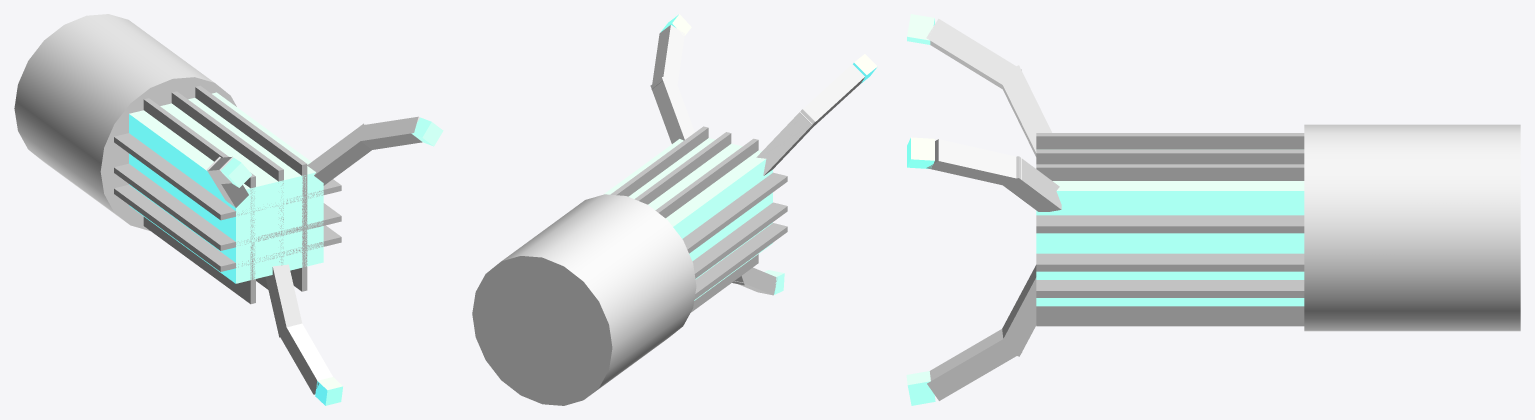
File: GravityGun.fbx
The picture shows the model from 3 angles, left to right: view 1: azimuth 30°, elevation 25°; view 2: azimuth 150°, elevation 25°; view 3: azimuth 270°, elevation 25°; orthographic projection. The views are drawn at different scales.
Visible parts, largest first — view 1: Cylinder, Cube, Cube__3_, Cube__4_, Cube__6_, Cube__1_, Cube__5_, Cube__2_, Cube__8__2, Cube__7_, Cube__7__2, Cube__8_ (+4 smaller); view 2: Cylinder, Cube, Cube__3_, Cube__5_, Cube__4_, Cube__6_, Cube__7_, Cube__2_, Cube__8__1, Cube__1_, Cube__8_, Cube__7__1 (+1 smaller); view 3: Cylinder, Cube, Cube__1_, Cube__4_, Cube__5_, Cube__6_, Cube__3_, Cube__2_, Cube__8__2, Cube__8_, Cube__8__1, Cube__7__1 (+5 smaller).
Part boxes in pixels (x1,y1,x2,y2): Cylinder: [14, 14, 236, 230]; Cube: [129, 92, 323, 283]; Cube__3_: [143, 98, 255, 304]; Cube__4_: [114, 163, 341, 250]; Cube__6_: [114, 184, 341, 271]; Cube__1_: [195, 85, 307, 291]; Cube__5_: [114, 133, 341, 220]; Cube__2_: [171, 91, 283, 289]; Cube__8__2: [278, 323, 332, 394]; Cube__7_: [307, 123, 371, 185]; Cube__7__2: [265, 264, 302, 337]; Cube__8_: [356, 116, 422, 149]; Cylinder: [472, 194, 696, 405]; Cube: [603, 138, 772, 300]; Cube__3_: [655, 138, 758, 312]; Cube__5_: [682, 172, 787, 253]; Cube__4_: [692, 202, 787, 278]; Cube__6_: [694, 223, 787, 299]; Cube__7_: [650, 77, 694, 143]; Cube__2_: [634, 132, 731, 204]; Cube__8__1: [799, 64, 864, 129]; Cube__1_: [610, 126, 708, 196]; Cube__8_: [651, 25, 684, 89]; Cube__7__1: [756, 109, 815, 175]; Cylinder: [1304, 124, 1520, 331]; Cube: [1036, 149, 1304, 306]; Cube__1_: [1036, 164, 1304, 326]; Cube__4_: [1036, 253, 1304, 271]; Cube__5_: [1036, 215, 1304, 233]; Cube__6_: [1036, 280, 1304, 297]; Cube__3_: [1036, 133, 1304, 149]; Cube__2_: [1036, 150, 1304, 164]; Cube__8__2: [927, 329, 1022, 400]; Cube__8_: [926, 139, 1021, 184]; Cube__8__1: [926, 18, 1021, 88]; Cube__7__1: [998, 65, 1051, 156].
Bounding box in the file's own units: 84.62 × 99.23 × 167.
